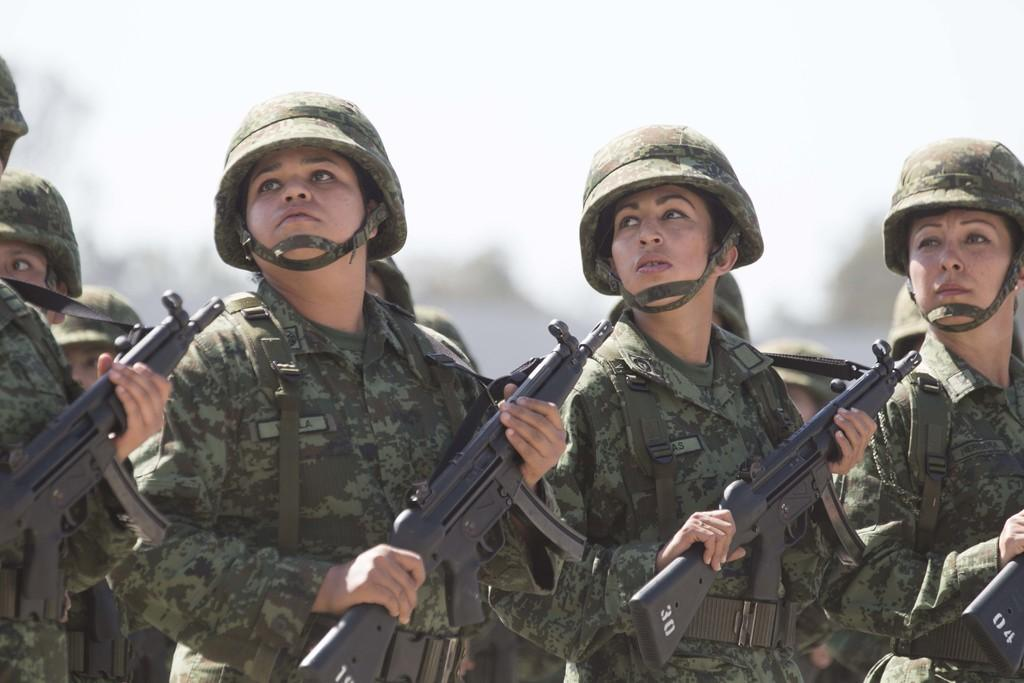Rifle: (282, 320, 614, 682), (628, 338, 924, 668), (0, 276, 225, 624), (958, 549, 1023, 682)
